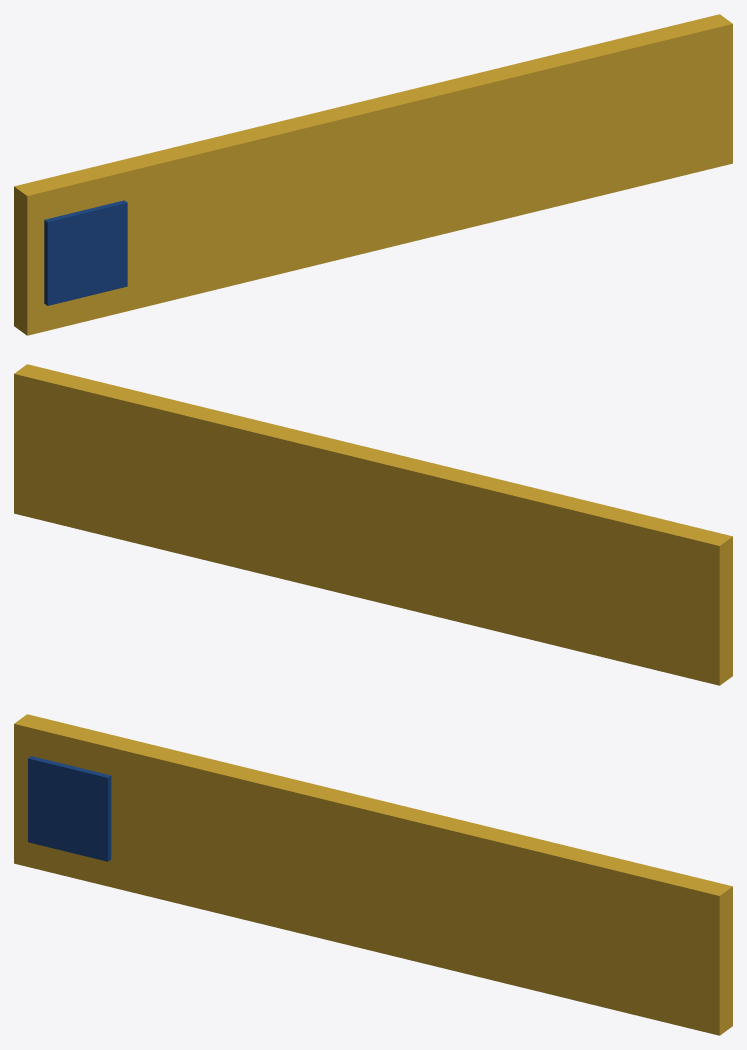
Rendered from bang_gui_xe_40.glb.
The picture shows the model from 3 angles, top to bottom: view 1: azimuth 30°, elevation 25°; view 2: azimuth 150°, elevation 25°; view 3: azimuth 330°, elevation 25°; orthographic projection.
Visible parts, largest first — view 1: bang_gui_xe_40; view 2: bang_gui_xe_40; view 3: bang_gui_xe_40.
Boxes of the visible parts, x1,y1,x2,y2 form: bang_gui_xe_40: (14, 14, 732, 335); bang_gui_xe_40: (14, 364, 732, 685); bang_gui_xe_40: (14, 714, 732, 1035).
Size of the model in its own units: 3.7 by 0.7 by 0.15.
